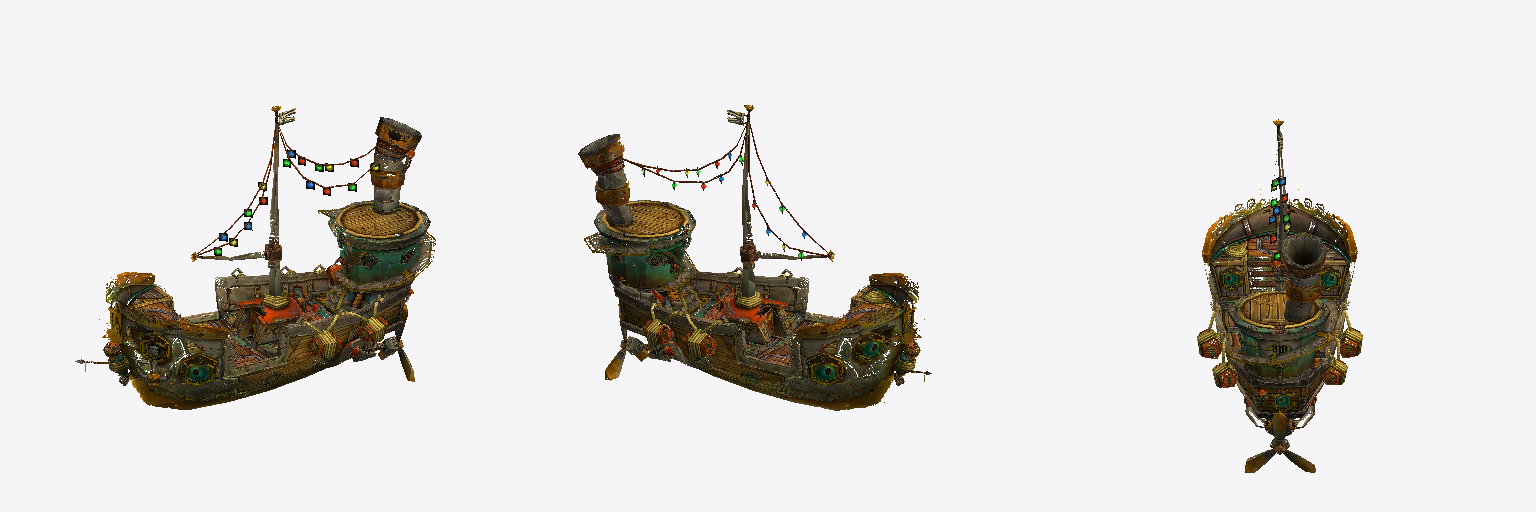
The picture shows the model from 3 angles: view 1: azimuth 30°, elevation 25°; view 2: azimuth 150°, elevation 25°; view 3: azimuth 270°, elevation 25°; orthographic projection.
Parts seen in each view (by area): view 1: car_4; view 2: car_4; view 3: car_4.
Boxes of the visible parts, x1,y1,x2,y2 form: car_4: [75, 106, 435, 409]; car_4: [578, 105, 931, 410]; car_4: [1197, 119, 1362, 472].
Bounding box in the file's own units: 19.04 × 15.46 × 7.8.
3 materials, 3 textured.